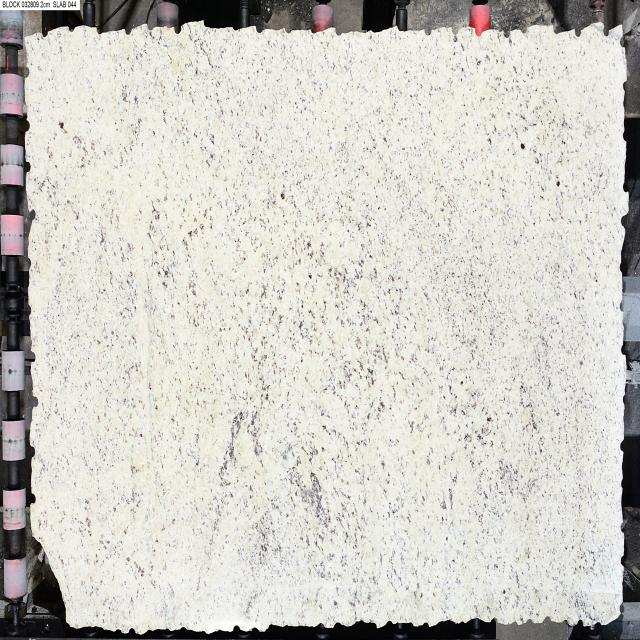chapa: (23, 20, 629, 633)
furo: (23, 527, 79, 634)
veio: (619, 209, 630, 230), (171, 22, 183, 36), (27, 207, 38, 222), (29, 394, 39, 410), (29, 349, 37, 365), (602, 24, 610, 40), (25, 159, 32, 175), (29, 490, 38, 500)
